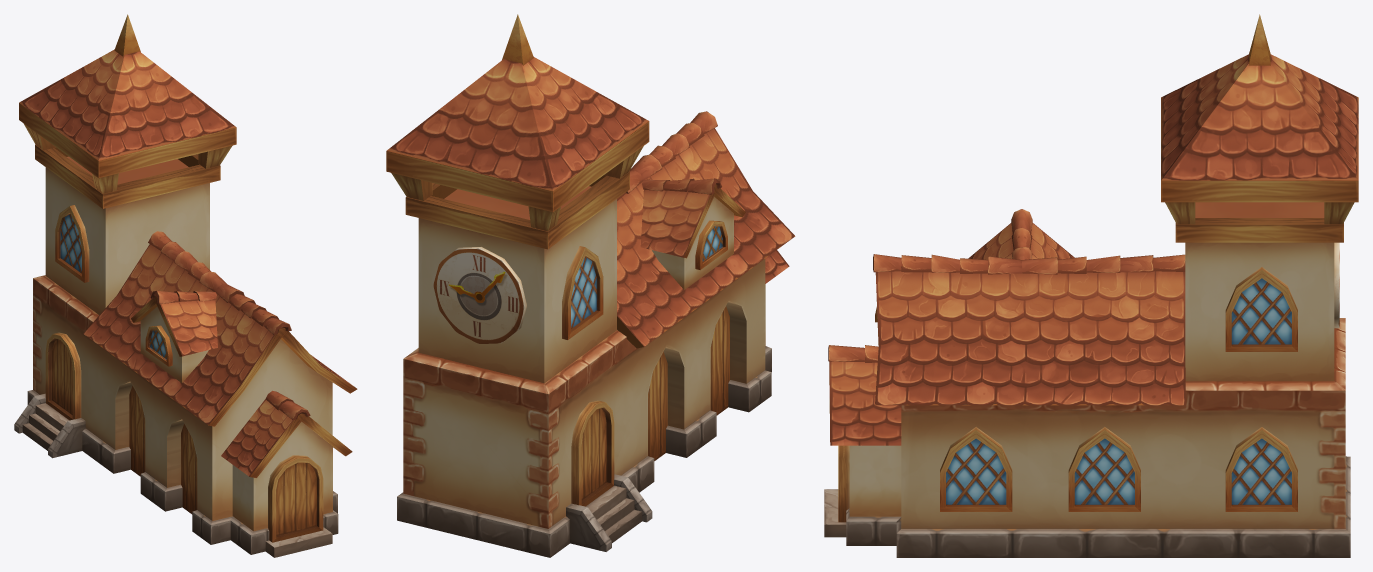
File: Town_Hall.FBX
3 views of the same model, side by side, from view 1: azimuth 30°, elevation 25°; view 2: azimuth 150°, elevation 25°; view 3: azimuth 270°, elevation 25° (orthographic). The views are drawn at different scales.
Visible parts, largest first — view 1: Town_Hall; view 2: Town_Hall; view 3: Town_Hall.
Boxes of the visible parts, x1,y1,x2,y2 form: Town_Hall: [14, 14, 357, 557]; Town_Hall: [386, 14, 795, 557]; Town_Hall: [824, 14, 1358, 557].
Size of the model in its own units: 6.06 by 14.08 by 13.48.
